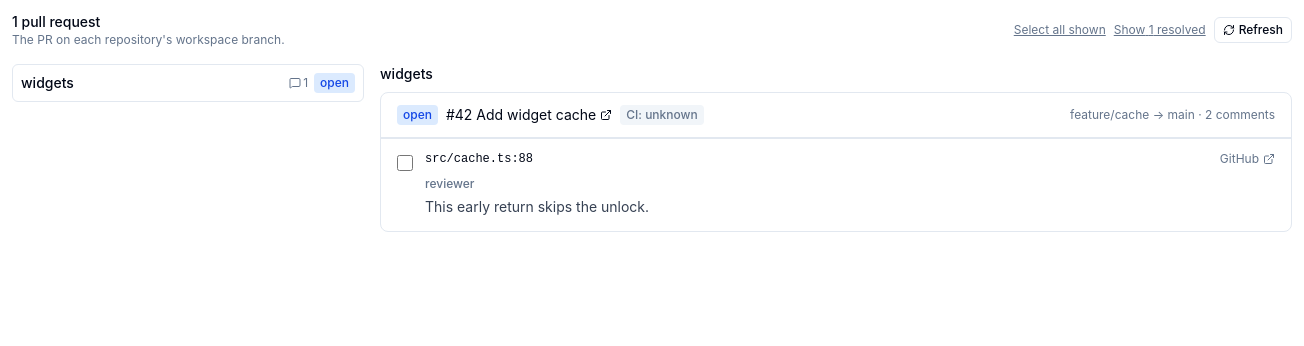
Test: PullRequestsView › hides resolved threads until asked, since they need no decision
The width and height of the screenshot is (1304, 346).
Expected: the text "src/other.ts:3" is not shown
What coordinates should you click on to do the following:
click the button "Show 1 resolved"
I would click on:
 (1160, 30)
Its box is [1114,22,1206,38].
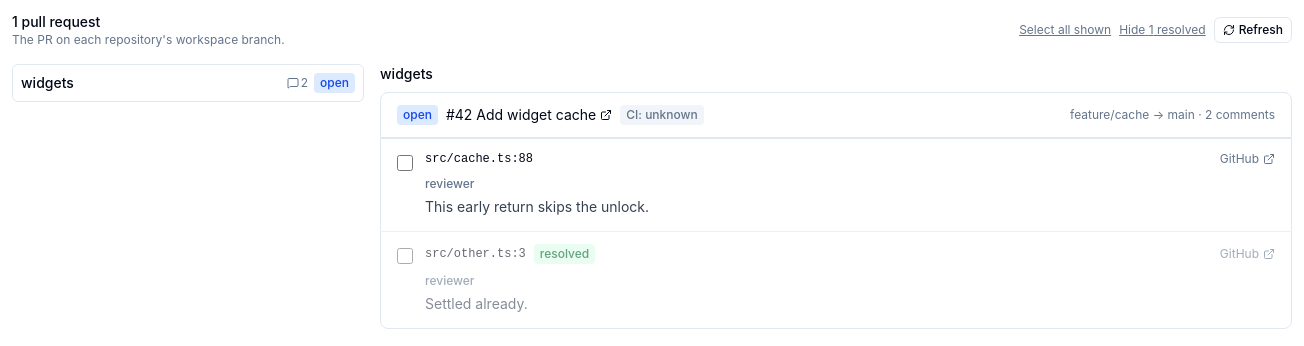
Result: the text "src/other.ts:3" is shown at [425,246,526,262]
